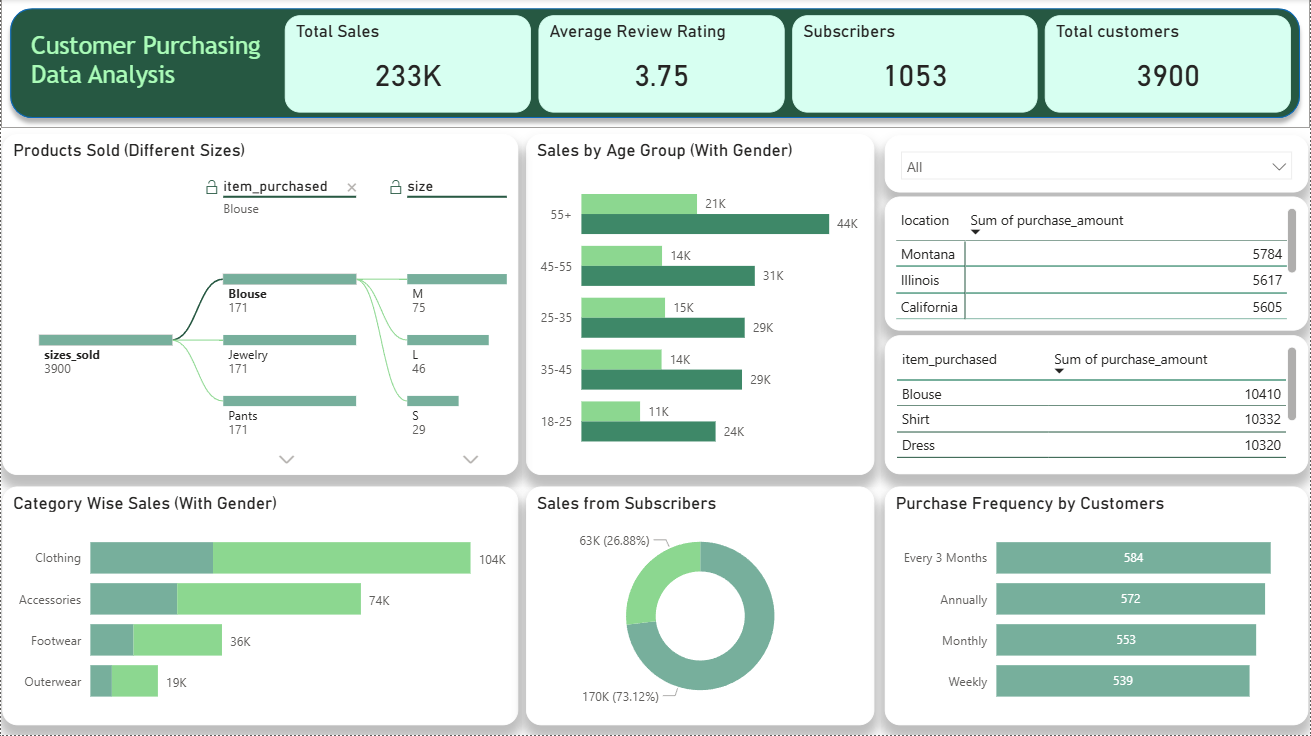

The dashboard page shown, as its layout file describes it:
{"tool":"powerbi","page":{"name":"Page 1","canvas":[1280,720],"ordinal":0},"visuals":[{"type":"shape","box":[0,0,1279.7,125.5],"z":0},{"type":"clusteredBarChart","title":"Sales by Age Group (With Gender)","fields":{"Series":["projects mytable.gender"],"Category":["projects mytable.age_groups"],"Y":["Sum(projects mytable.purchase_amount)"]},"box":[513.6,132.2,340.5,333.3],"z":1000},{"type":"card","title":"Total Sales","fields":{"Values":["Sum(projects mytable.purchase_amount)"]},"box":[277.6,15.9,240.9,95.4],"z":2000},{"type":"card","title":"Average Review Rating","fields":{"Values":["Avg(projects mytable.review_rating)"]},"box":[525.8,15.9,240.9,95.4],"z":3000},{"type":"decompositionTreeVisual","title":"Products Sold (Different Sizes)","fields":{"ExplainBy":["projects mytable.item_purchased","projects mytable.size"],"Analyze":["projects mytable.sizes_sold"]},"box":[1.4,132.2,505,333.3],"z":4000},{"type":"barChart","title":"Category Wise Sales (With Gender)","fields":{"Category":["projects mytable.category"],"Series":["projects mytable.gender"],"Y":["Sum(projects mytable.purchase_amount)"]},"box":[1.4,476.5,505,233.7],"z":5000},{"type":"donutChart","title":"Sales from Subscribers","fields":{"Category":["projects mytable.subscription_status"],"Y":["Sum(projects mytable.purchase_amount)"]},"box":[513.6,476.5,340.5,233.7],"z":6000},{"type":"slicer","fields":{"Values":["projects mytable.location"]},"box":[864.2,132.7,414.1,56.3],"z":9000},{"type":"pivotTable","fields":{"Rows":["projects mytable.location"],"Values":["Sum(projects mytable.purchase_amount)"]},"box":[864.2,193.3,414.1,131.3],"z":10000},{"type":"tableEx","fields":{"Values":["projects mytable.item_purchased","Sum(projects mytable.purchase_amount)"]},"box":[864.2,329.4,414.1,135.6],"z":11000},{"type":"clusteredBarChart","title":"Purchase Frequency by Customers","fields":{"Category":["projects mytable.frequency_of_purchases"],"Y":["CountNonNull(projects mytable.customer_id)"]},"box":[864.2,476.5,414.1,233.7],"z":12000},{"type":"card","title":"Subscribers","fields":{"Values":["projects mytable.subscribed_customers"]},"box":[774.1,15.9,239.7,95.4],"z":13000},{"type":"card","title":"Total customers","fields":{"Values":["Count(projects mytable.customer_id)"]},"box":[1021.1,15.9,240.9,95.4],"z":14000},{"type":"textbox","box":[24,26.9,266.6,84.4],"z":14001}]}

Visuals, with their boxes in screenshot pixels (x1, y1, x2, y2), scaled from the page's 1280x720 canvas onto the 1311x736 screenshot:
shape: bbox(0, 0, 1310, 128)
"Sales by Age Group (With Gender)" clusteredBarChart: bbox(526, 135, 875, 476)
"Total Sales" card: bbox(284, 16, 531, 114)
"Average Review Rating" card: bbox(539, 16, 785, 114)
"Products Sold (Different Sizes)" decompositionTreeVisual: bbox(1, 135, 519, 476)
"Category Wise Sales (With Gender)" barChart: bbox(1, 487, 519, 726)
"Sales from Subscribers" donutChart: bbox(526, 487, 875, 726)
slicer - projects mytable.location: bbox(885, 136, 1309, 193)
pivotTable - projects mytable.location x Sum(projects mytable.purchase_amount): bbox(885, 198, 1309, 332)
tableEx - projects mytable.item_purchased x Sum(projects mytable.purchase_amount): bbox(885, 337, 1309, 475)
"Purchase Frequency by Customers" clusteredBarChart: bbox(885, 487, 1309, 726)
"Subscribers" card: bbox(793, 16, 1038, 114)
"Total customers" card: bbox(1046, 16, 1293, 114)
textbox: bbox(25, 27, 298, 114)
